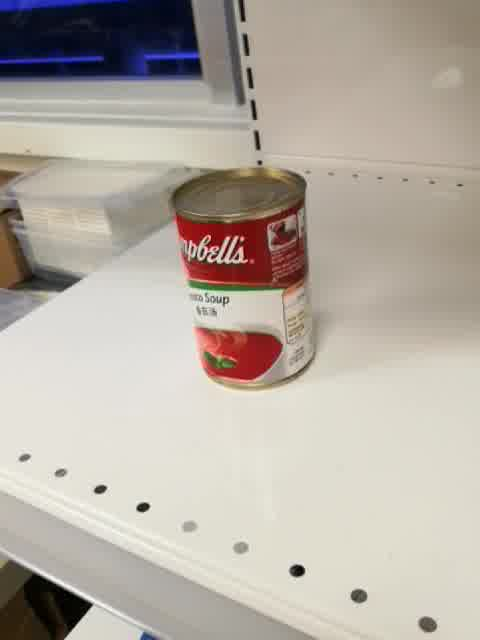tomatosoup: (167, 164, 318, 393)
